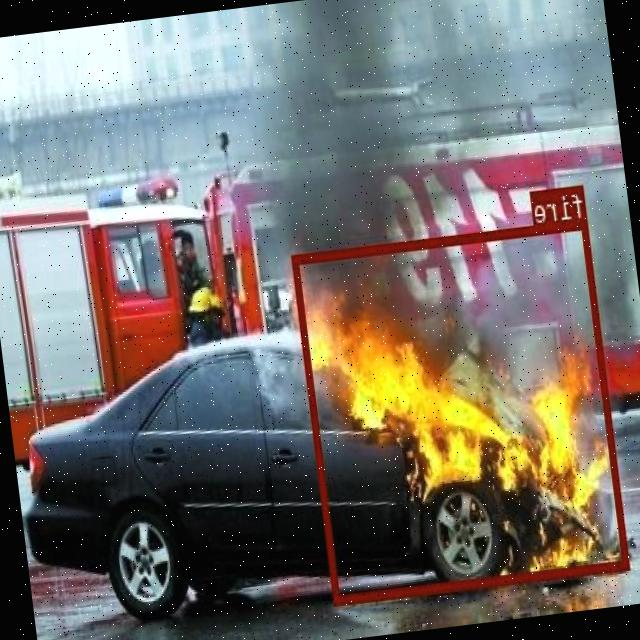fire: (292, 217, 631, 604)
